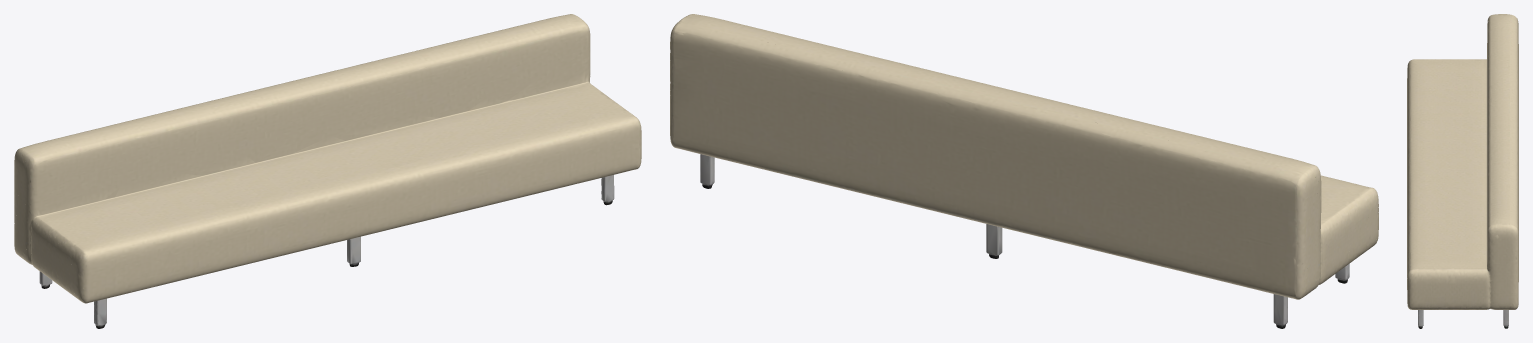
The model's file is 38_接待沙发、单人沙发_接待区.glb.
The picture shows the model from 3 angles, left to right: view 1: azimuth 30°, elevation 25°; view 2: azimuth 150°, elevation 25°; view 3: azimuth 270°, elevation 25°; orthographic projection. The views are drawn at different scales.
Visible parts, largest first — view 1: world; view 2: world; view 3: world.
Part boxes in pixels (x1,y1,x2,y2): world: [14, 14, 641, 328]; world: [670, 14, 1378, 328]; world: [1407, 14, 1518, 328].
Bounding box in the file's own units: 3 × 0.74 × 0.66.
Materials: 1 (1 with a texture image).
